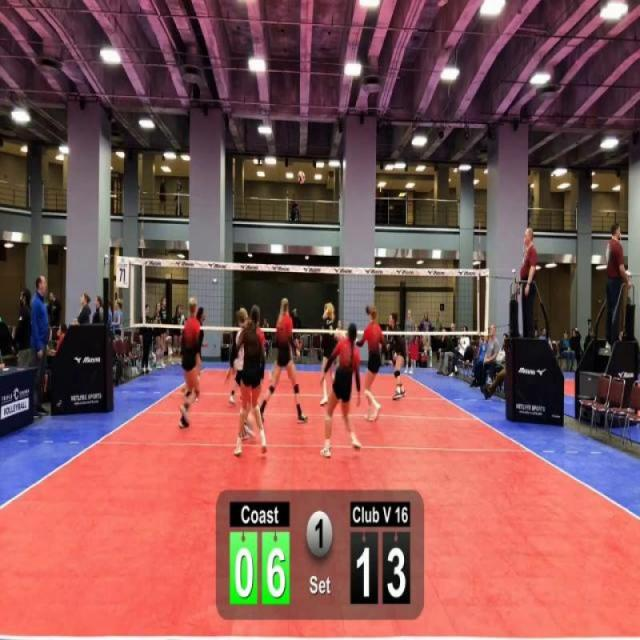volleyball: (296, 168, 308, 188)
